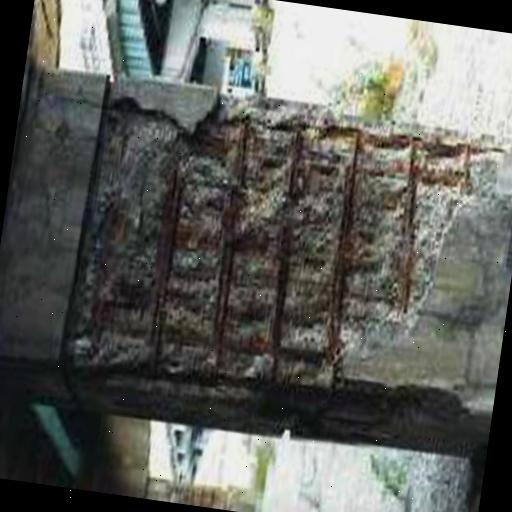spalling: (66, 76, 502, 434)
